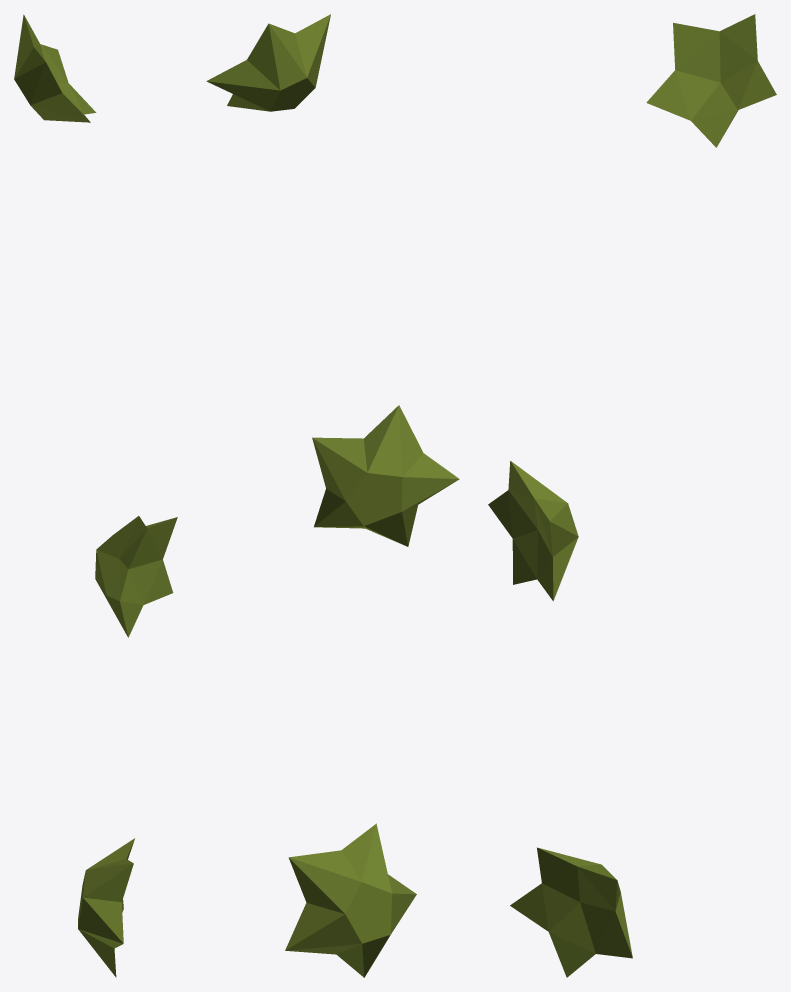
The picture shows the model from 3 angles, left to right: view 1: azimuth 30°, elevation 25°; view 2: azimuth 150°, elevation 25°; view 3: azimuth 270°, elevation 25°; orthographic projection. The views are drawn at different scales.
Visible parts, largest first — view 1: Box15912_green2_0, Box15906_green2_0, Box15931_green2_0; view 2: Box15912_green2_0, Box15906_green2_0, Box15931_green2_0; view 3: Box15931_green2_0, Box15906_green2_0, Box15912_green2_0.
Part boxes in pixels (x1,y1,x2,y2): Box15912_green2_0: (95,516,177,637); Box15906_green2_0: (78,838,134,977); Box15931_green2_0: (14,14,96,122); Box15912_green2_0: (312,405,459,546); Box15906_green2_0: (285,823,416,977); Box15931_green2_0: (206,14,330,111); Box15931_green2_0: (646,14,776,147); Box15906_green2_0: (510,847,632,977); Box15912_green2_0: (488,461,578,601).
Size of the model in its own units: 100 by 860 by 234.
